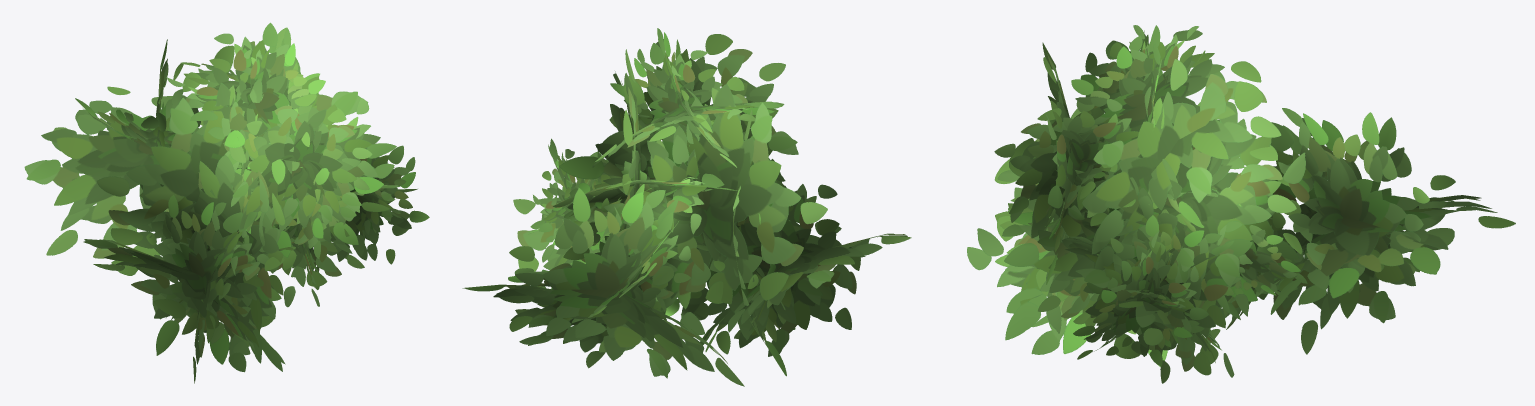
File: SM_Bush01.fbx
3 views of the same model, side by side, from view 1: azimuth 30°, elevation 25°; view 2: azimuth 150°, elevation 25°; view 3: azimuth 270°, elevation 25° (orthographic). The views are drawn at different scales.
Parts seen in each view (by area): view 1: Bush.001; view 2: Bush.001; view 3: Bush.001.
Boxes of the visible parts, x1,y1,x2,y2 form: Bush.001: [24, 22, 429, 383]; Bush.001: [462, 28, 911, 386]; Bush.001: [967, 25, 1515, 383].
Size of the model in its own units: 7.57 by 8.72 by 6.4.
